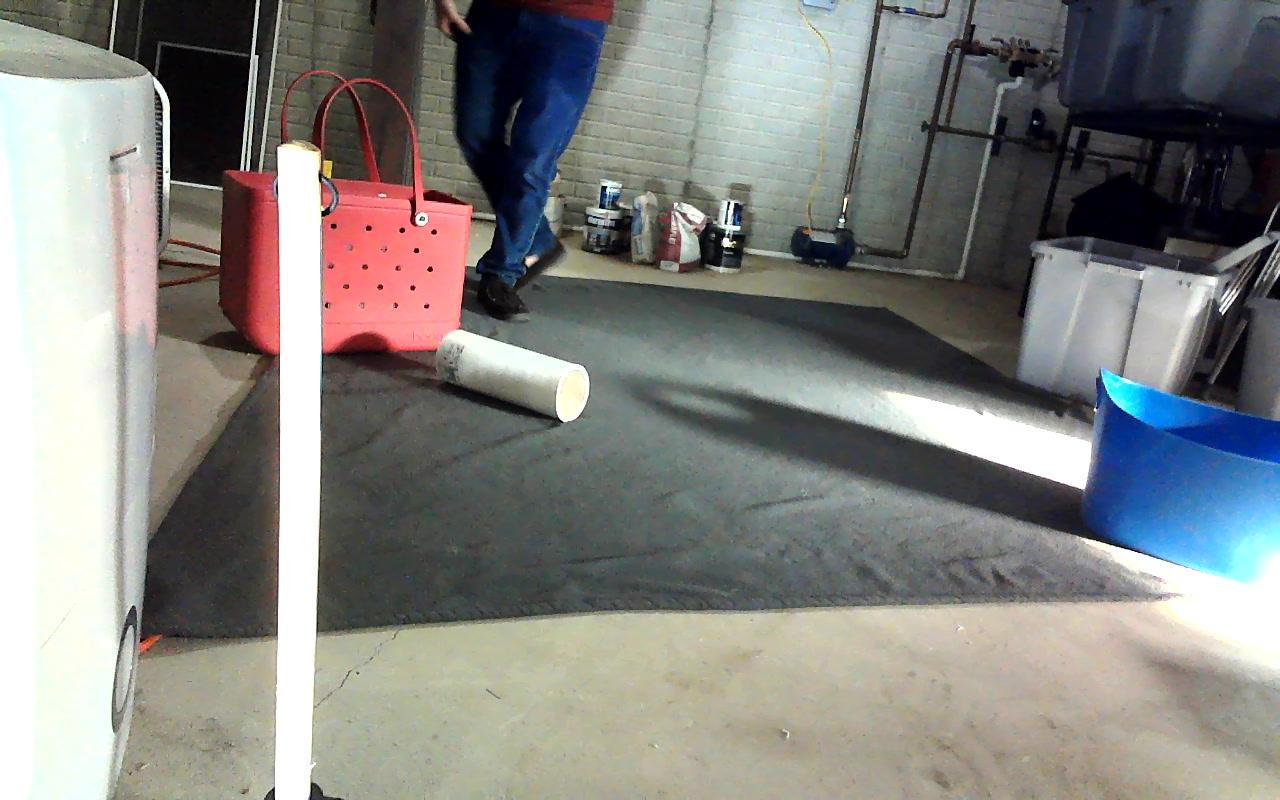coral: (432, 329, 589, 420)
